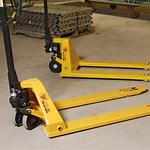Pallet Jack: (1, 1, 150, 141)
